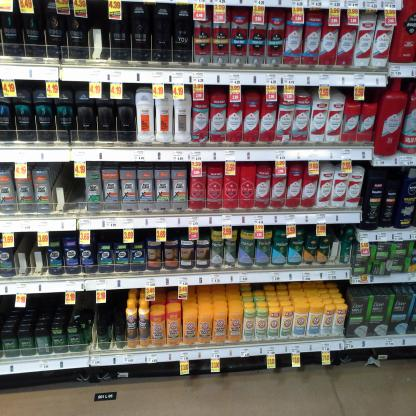Void: (53, 166, 83, 207), (92, 7, 110, 61)
